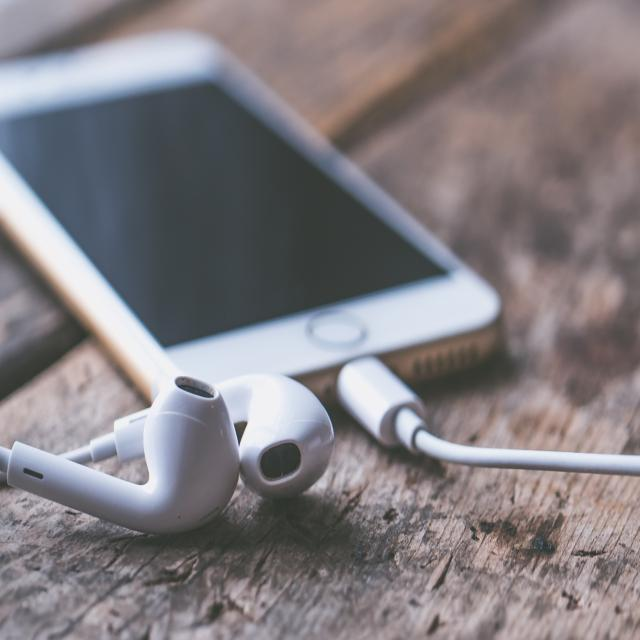Earphone: (1, 358, 640, 538)
